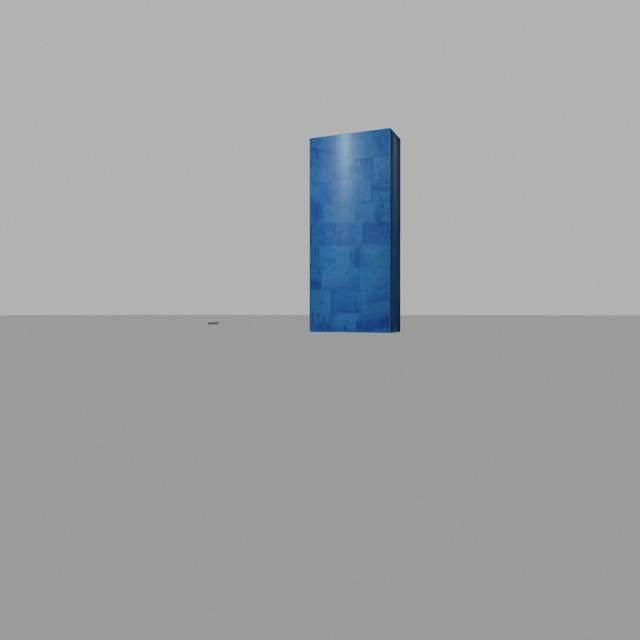bowl: (205, 314, 222, 332)
shelf: (305, 124, 405, 335)
